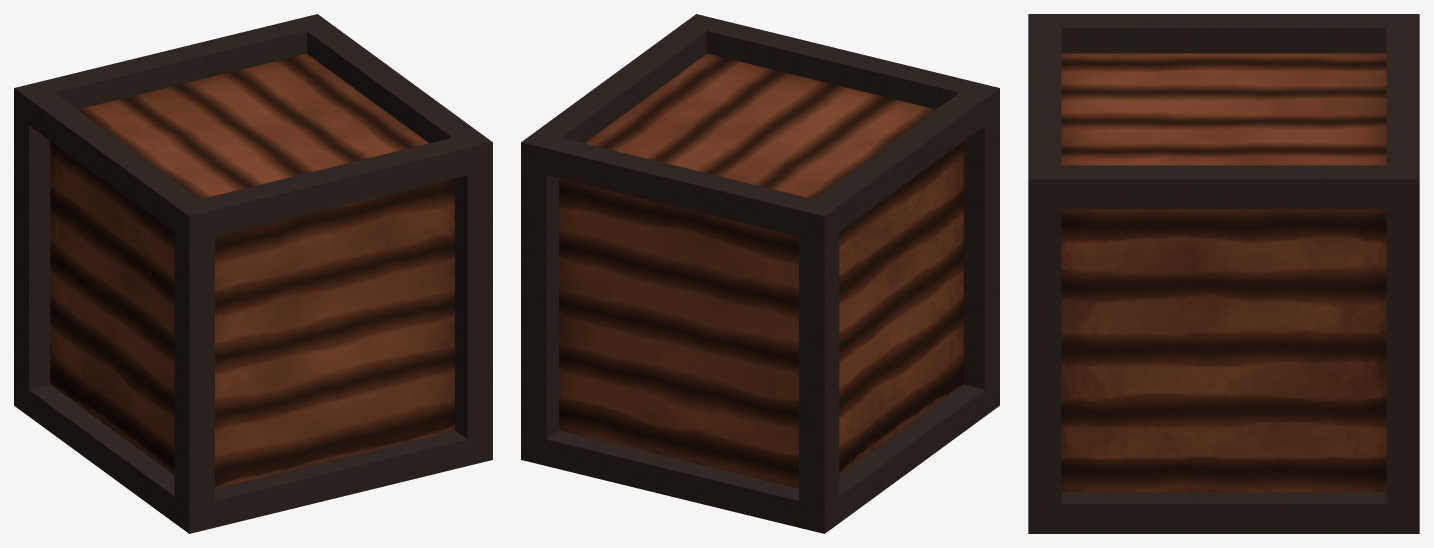
The picture shows the model from 3 angles, left to right: view 1: azimuth 30°, elevation 25°; view 2: azimuth 150°, elevation 25°; view 3: azimuth 270°, elevation 25°; orthographic projection. The views are drawn at different scales.
Visible parts, largest first — view 1: Cube; view 2: Cube; view 3: Cube.
Boxes of the visible parts, x1=… form: Cube: x1=14, y1=14, x2=492, y2=533; Cube: x1=521, y1=14, x2=999, y2=533; Cube: x1=1028, y1=14, x2=1419, y2=533.
Bounding box in the file's own units: 160 × 160 × 160.
2 materials, 2 textured.
